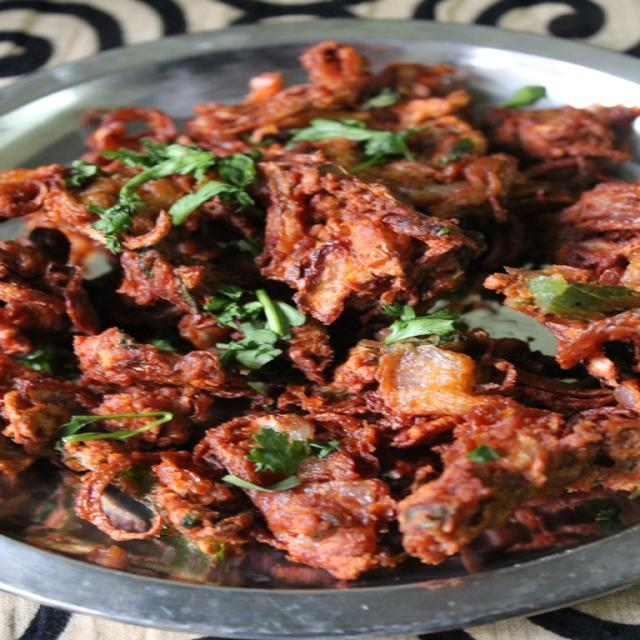BAJI: (0, 40, 639, 588), (399, 400, 639, 560), (256, 163, 478, 323), (378, 344, 476, 416)
